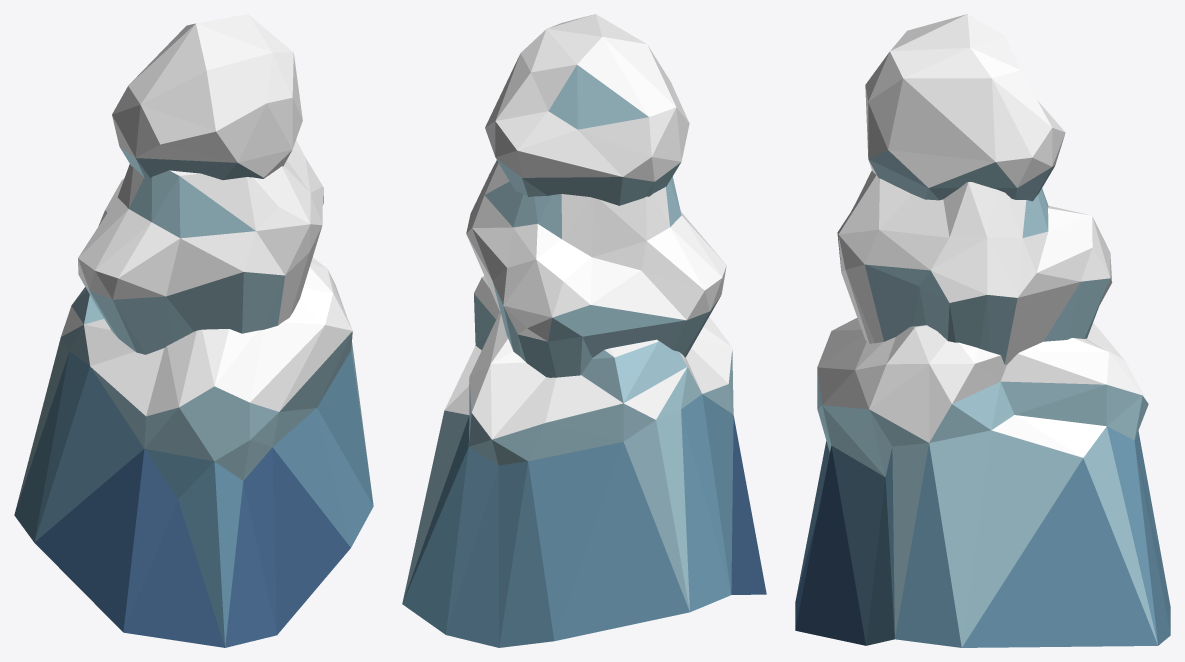
Rendered from terrainStoneStackLarge1.fbx.
The picture shows the model from 3 angles, left to right: view 1: azimuth 30°, elevation 25°; view 2: azimuth 150°, elevation 25°; view 3: azimuth 270°, elevation 25°; orthographic projection. The views are drawn at different scales.
Visible parts, largest first — view 1: base, middle, top; view 2: base, middle, top; view 3: base, middle, top.
Boxes of the visible parts, bbox=[...] form: base: bbox=[14, 258, 373, 647]; middle: bbox=[78, 140, 323, 354]; top: bbox=[112, 14, 302, 179]; base: bbox=[402, 276, 766, 647]; middle: bbox=[466, 160, 726, 377]; top: bbox=[485, 14, 689, 205]; base: bbox=[795, 318, 1170, 647]; middle: bbox=[837, 170, 1112, 364]; top: bbox=[865, 14, 1065, 201].
Bounding box in the file's own units: 2628 × 4667 × 2583.
Materials: 1 (1 with a texture image).
